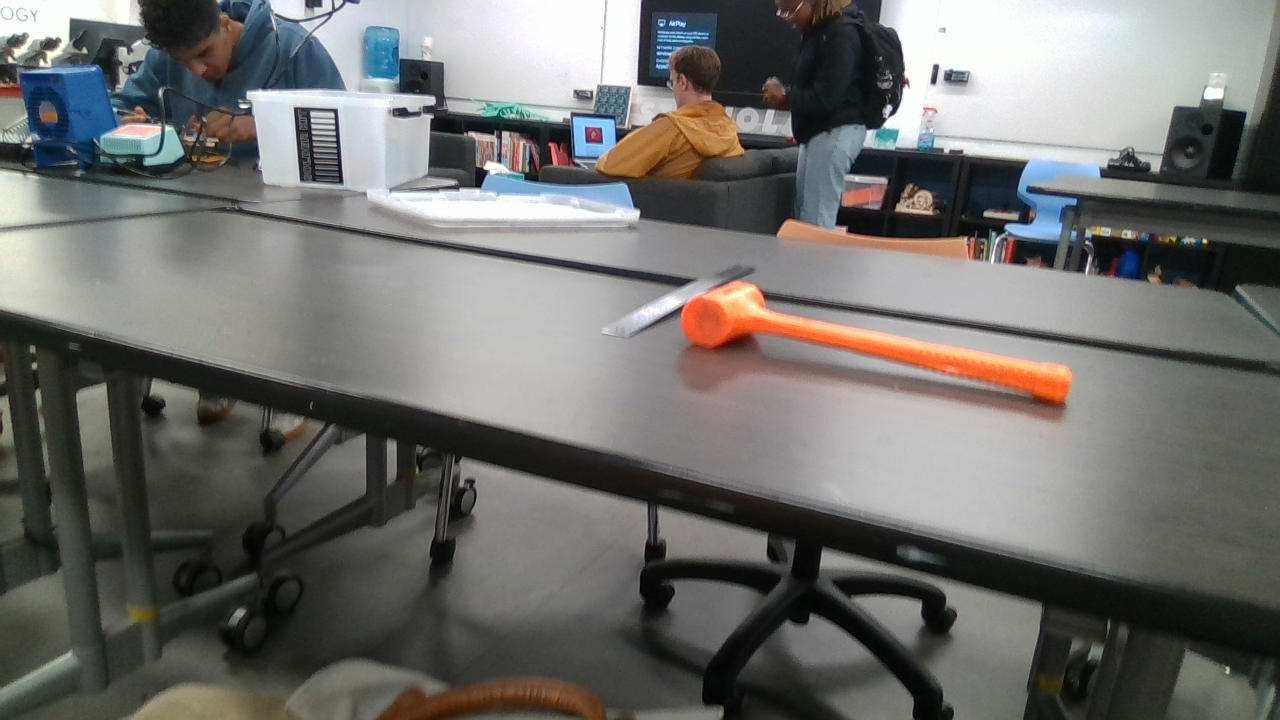Orange Hammer: (677, 281, 1069, 405)
